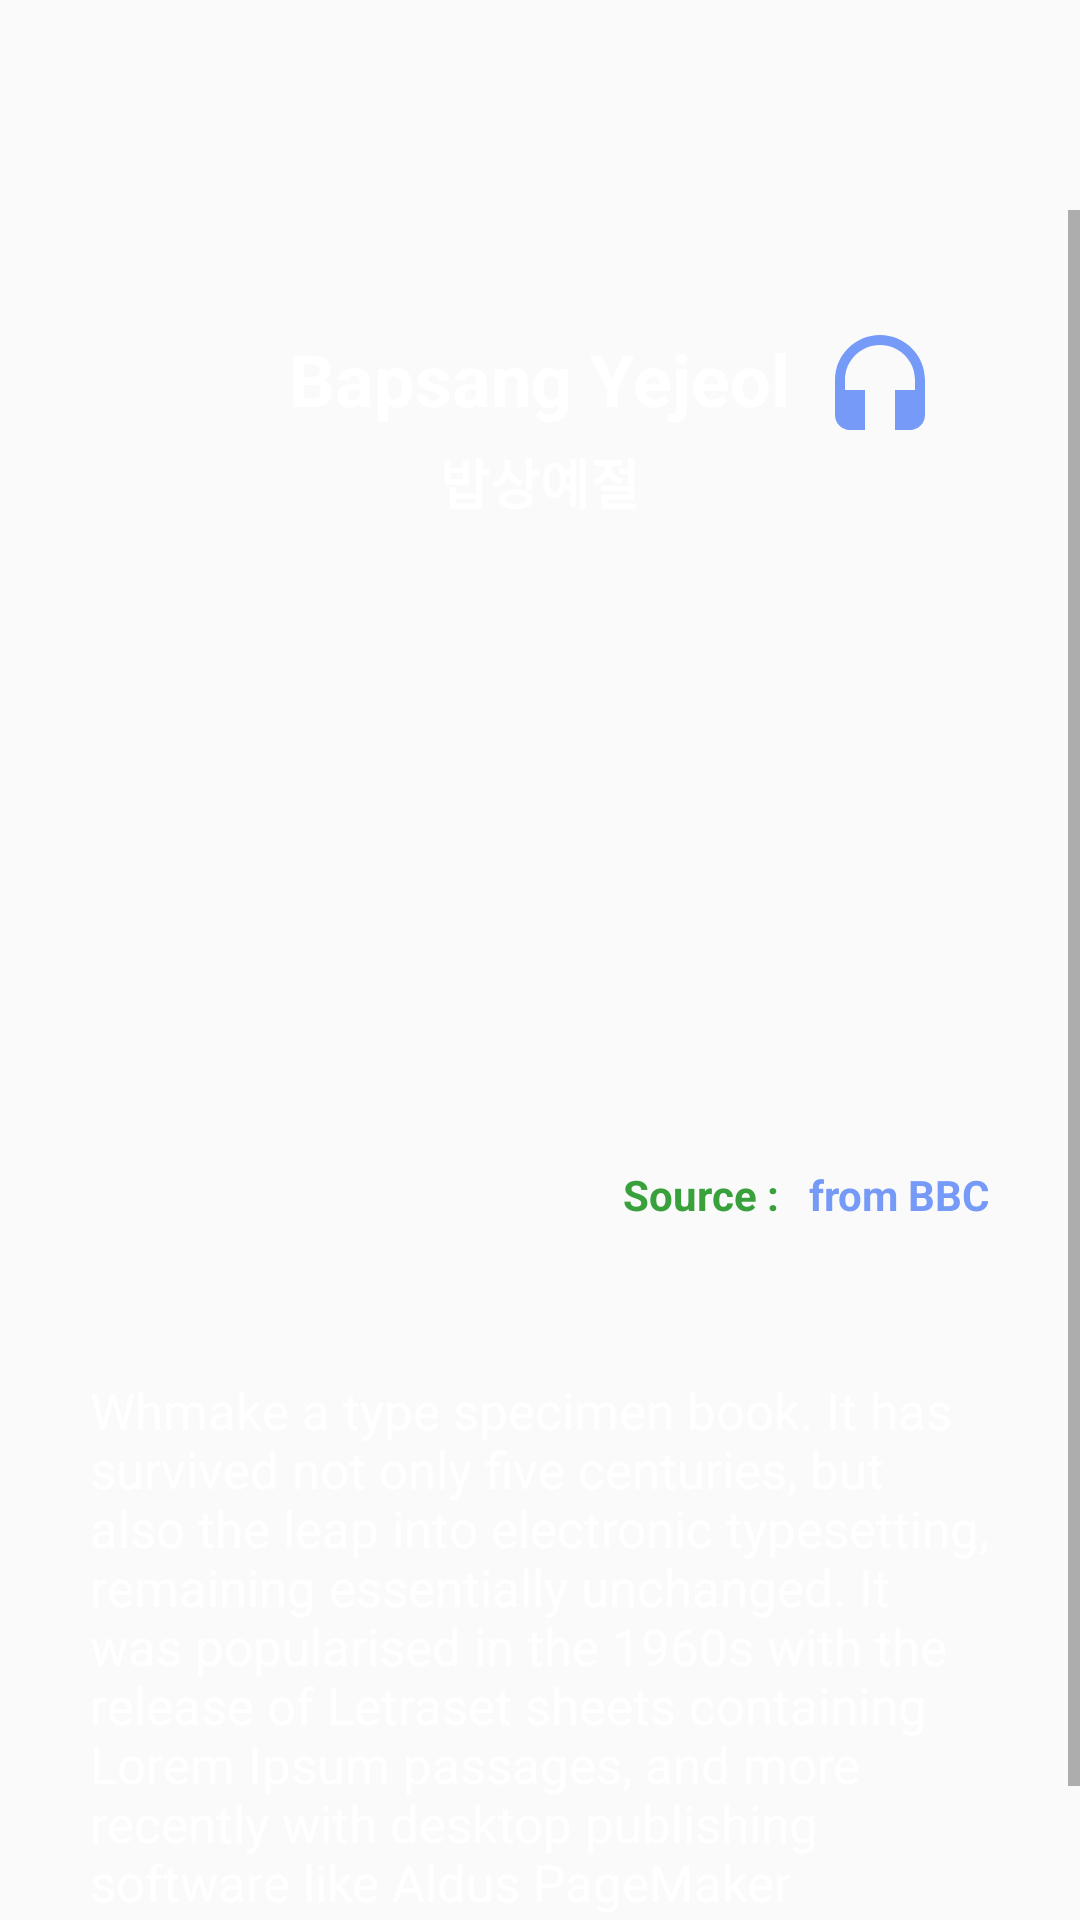

Icon bounding boxes for this 1080x1920 phone screenshot, format (x1, y1, x2, y2):
headset: (835, 335, 925, 430)
